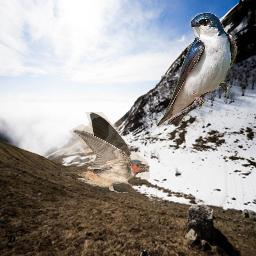Swallow: (156, 11, 238, 128), (60, 112, 150, 194)
